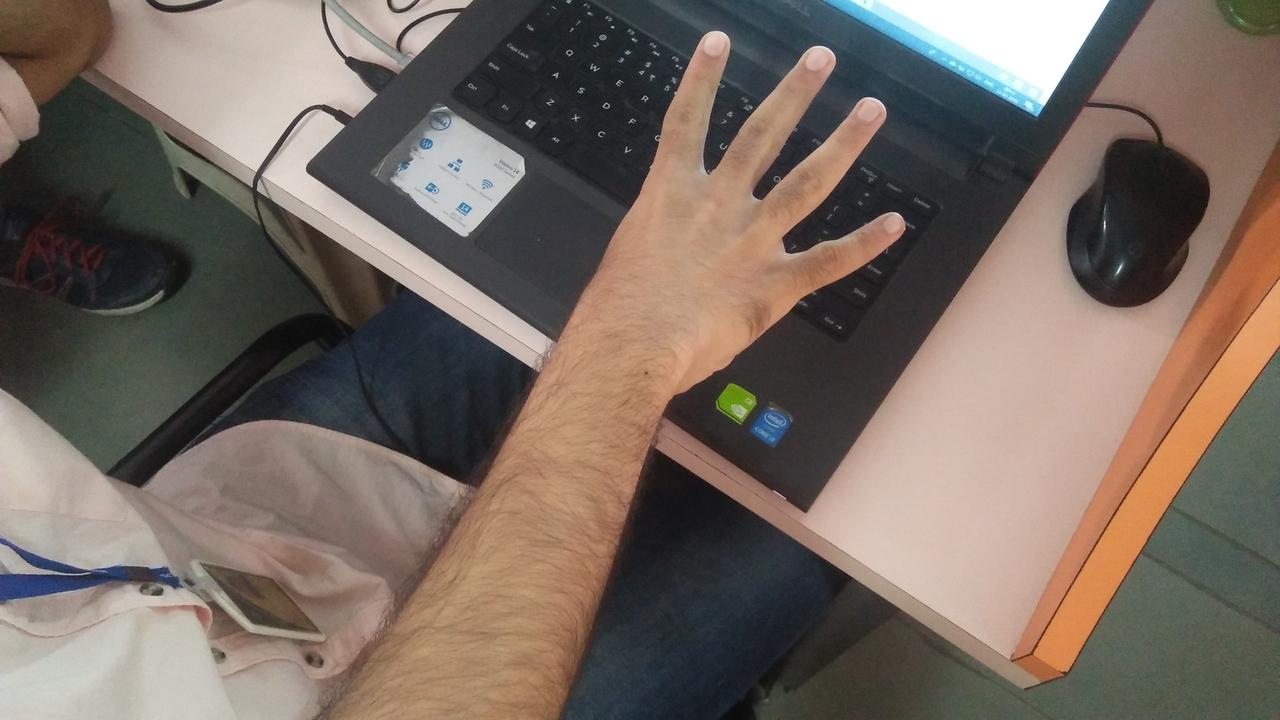fingertip: (830, 80, 902, 136), (782, 34, 852, 80), (684, 18, 738, 68), (876, 198, 916, 254)
